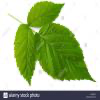Raspberry leaf: (33, 22, 97, 83), (13, 22, 37, 87), (26, 0, 65, 27)
